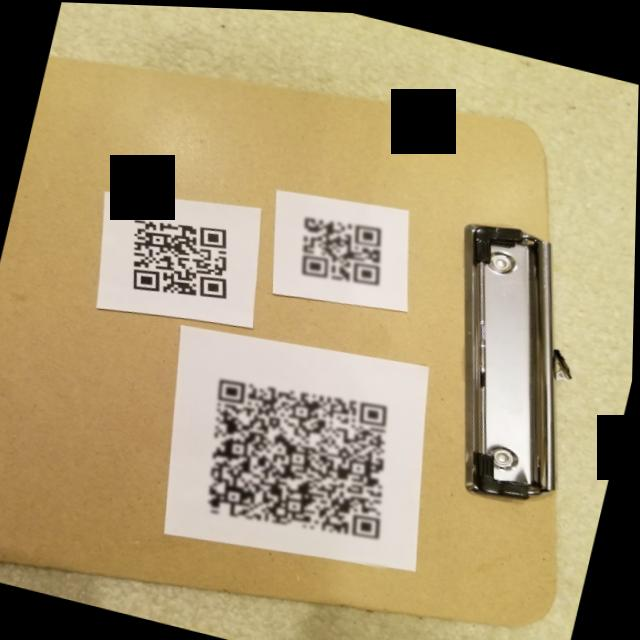QR_CODE: (173, 343, 429, 568), (105, 189, 260, 321), (279, 192, 409, 305)
